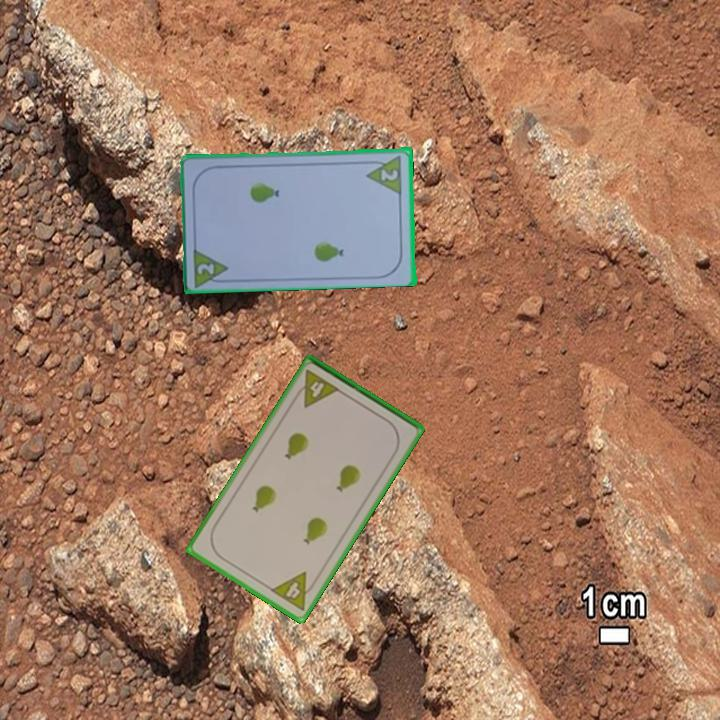2p: (190, 244, 233, 288), (363, 151, 405, 195)
4p: (267, 568, 321, 614), (290, 366, 343, 411)
